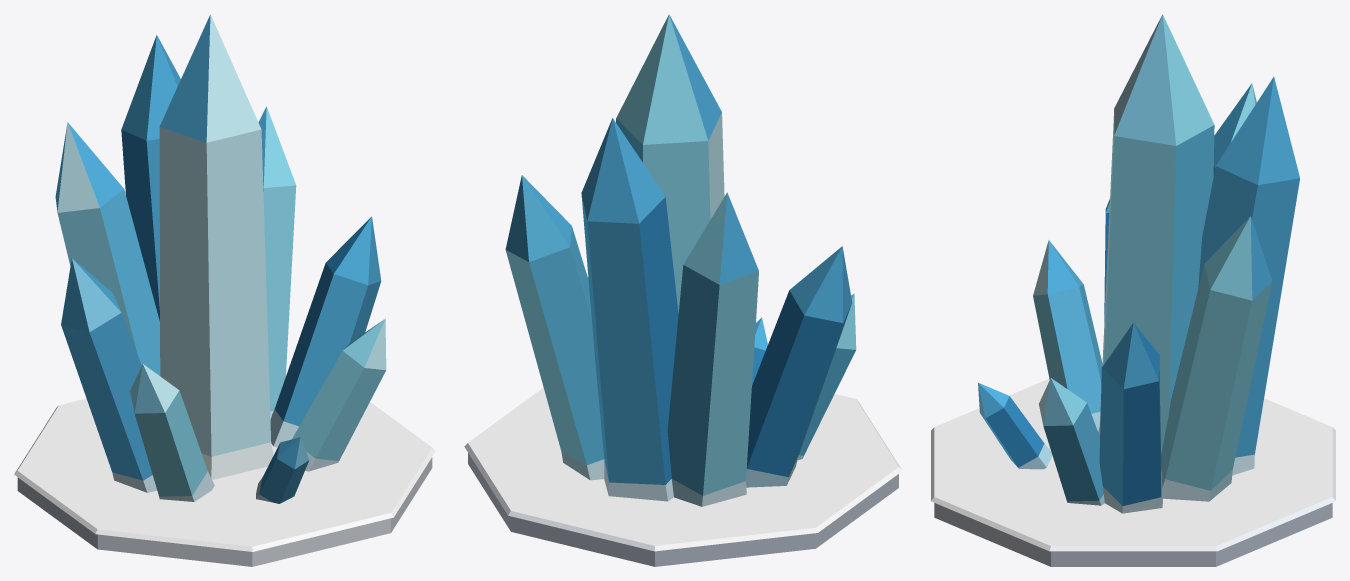
Rendered from landmark-far.glb.
The picture shows the model from 3 angles, left to right: view 1: azimuth 30°, elevation 25°; view 2: azimuth 150°, elevation 25°; view 3: azimuth 270°, elevation 25°; orthographic projection. The views are drawn at different scales.
Parts seen in each view (by area): view 1: crystal-far; view 2: crystal-far; view 3: crystal-far.
Part boxes in pixels (<box>): crystal-far: <box>14,14,435,566</box>; crystal-far: <box>464,14,902,566</box>; crystal-far: <box>931,14,1335,566</box>.
Bounding box in the file's own units: 28.18 × 35.98 × 28.18.
1 material, 1 textured.
